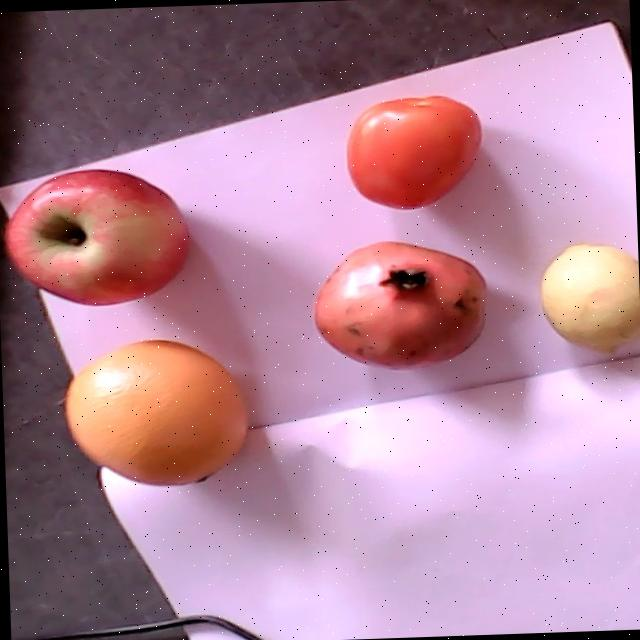apple: (6, 169, 190, 304)
lemon: (542, 243, 639, 354)
orange: (65, 339, 248, 483)
pomegranate: (314, 240, 485, 370)
tomato: (347, 95, 479, 209)
